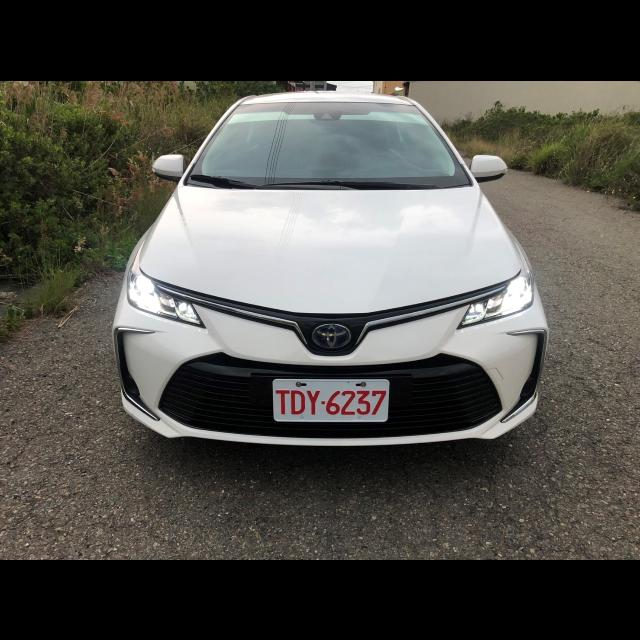plate: (273, 379, 389, 421)
